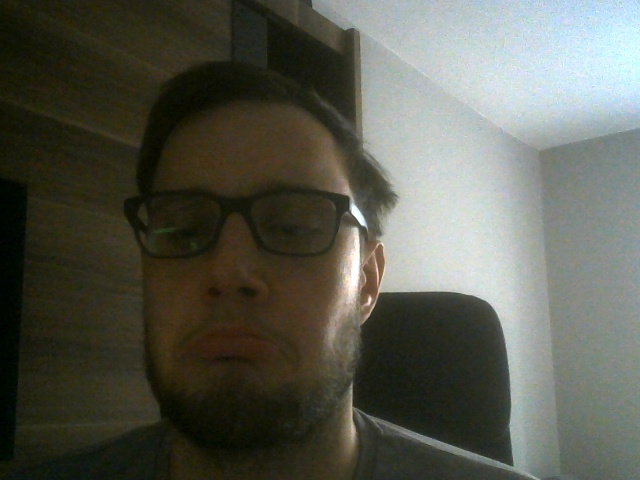sad: (126, 59, 386, 447)
